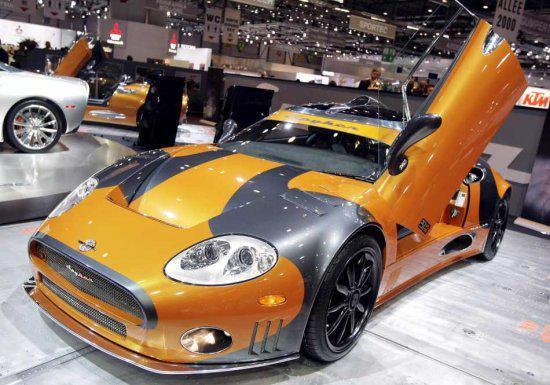Car: (18, 79, 536, 382)
